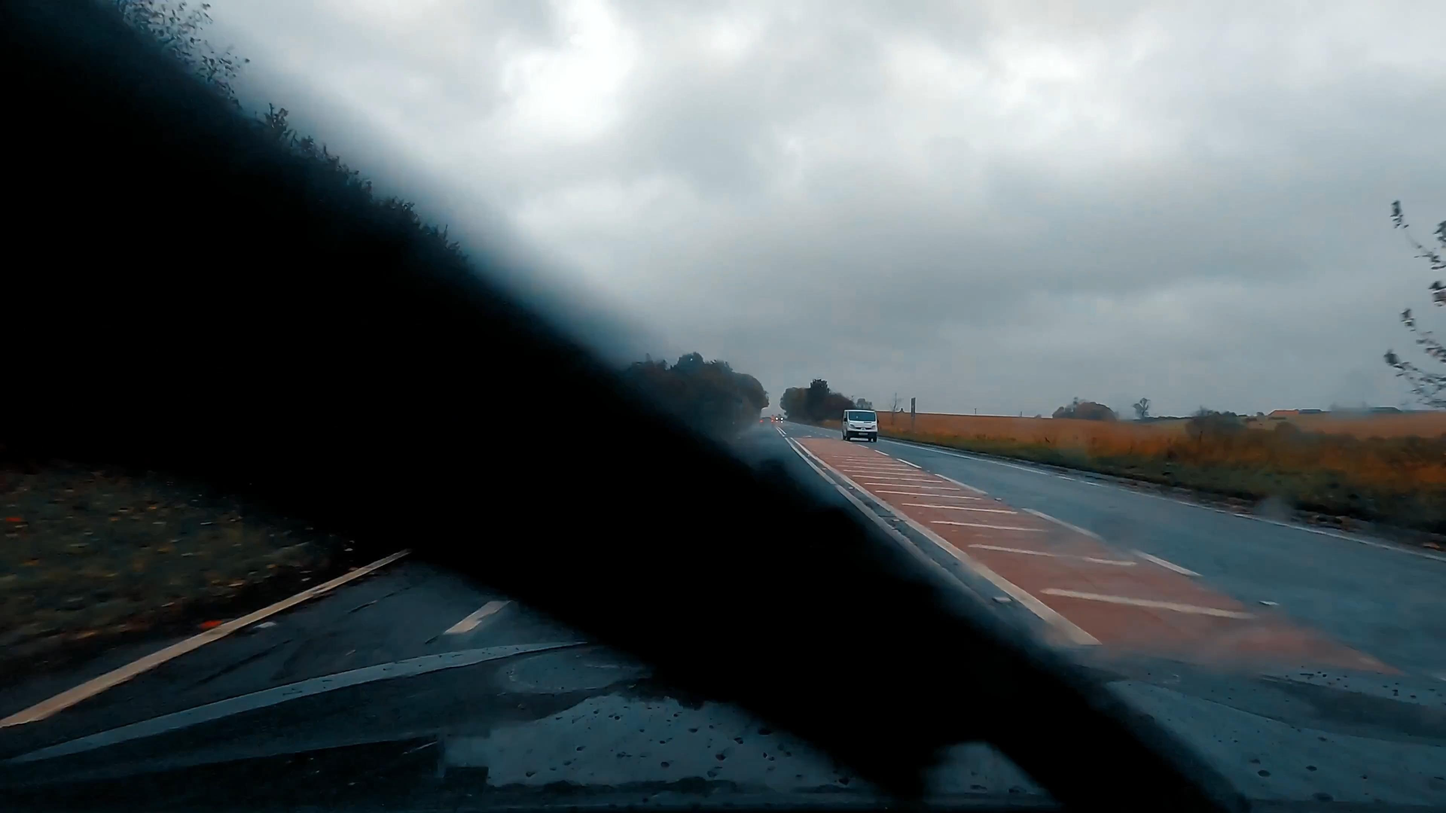dry: (0, 419, 1446, 813)
